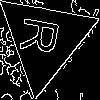R: (19, 14, 69, 58)
